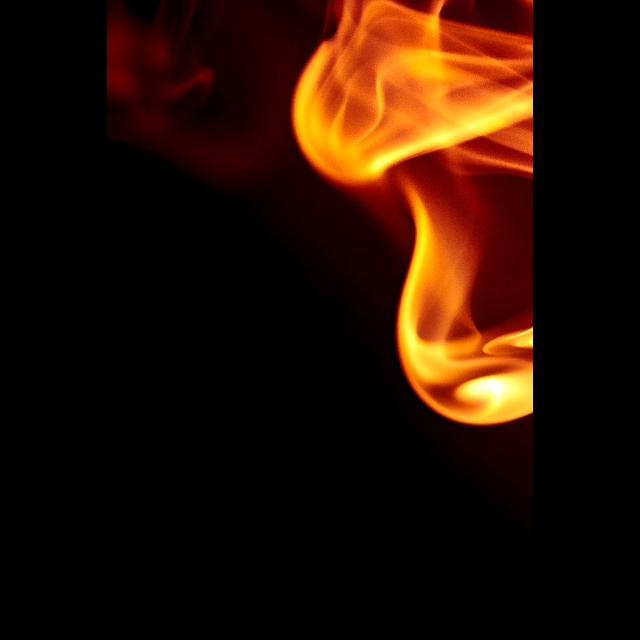fire: (294, 0, 534, 425)
